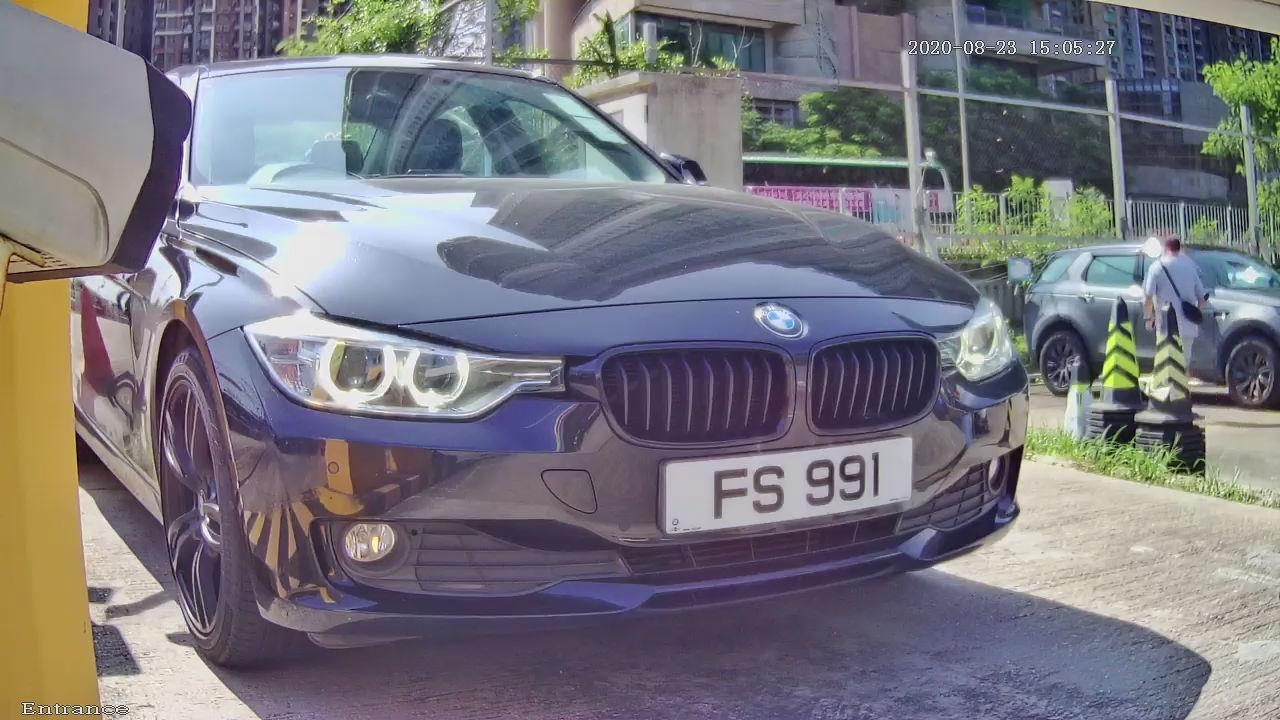Car: (29, 17, 1115, 692)
License Plate: (605, 381, 990, 582)
